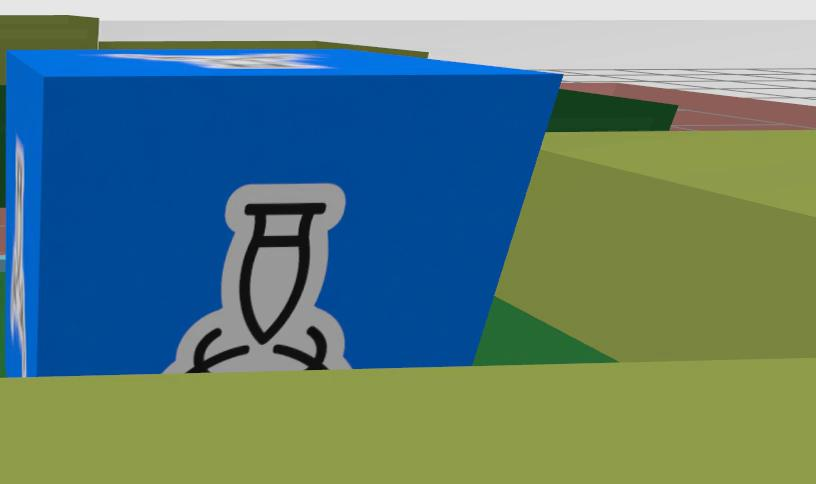KFS_REAL: (0, 49, 559, 375), (163, 184, 349, 371)
